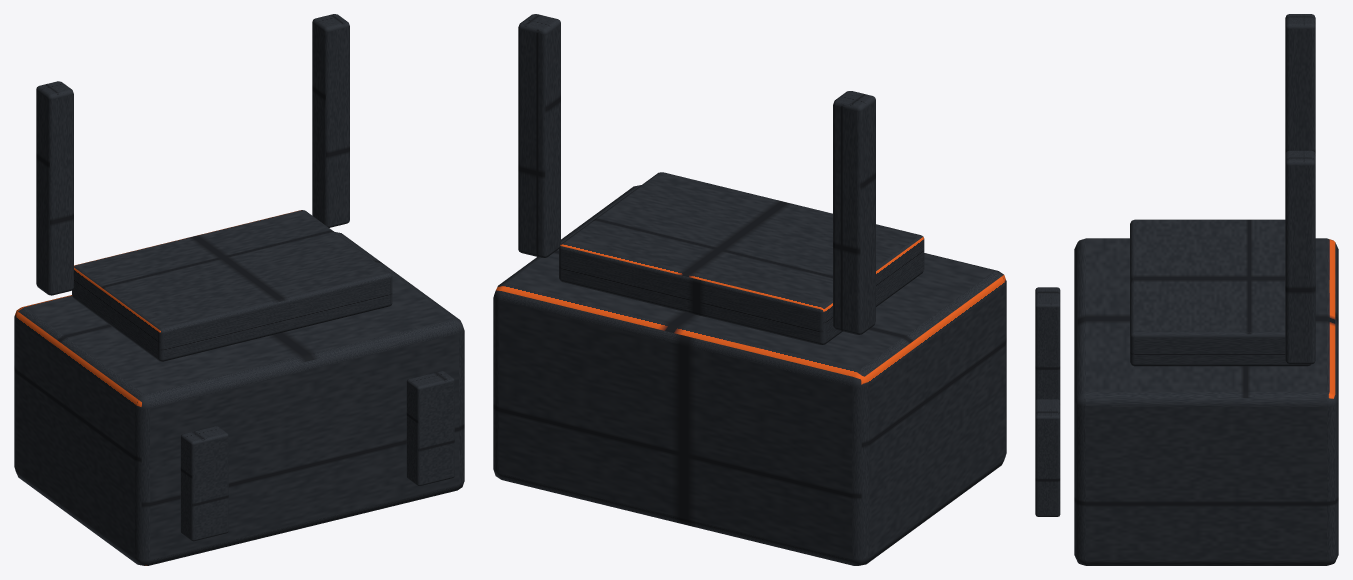
The model's file is Model_1_Rugged_Edge_Comms_Node.glb.
The picture shows the model from 3 angles, left to right: view 1: azimuth 30°, elevation 25°; view 2: azimuth 150°, elevation 25°; view 3: azimuth 270°, elevation 25°; orthographic projection. The views are drawn at different scales.
Visible parts, largest first — view 1: MYCALLA_Rugged_Edge_Comms_Node; view 2: MYCALLA_Rugged_Edge_Comms_Node; view 3: MYCALLA_Rugged_Edge_Comms_Node.
Part boxes in pixels (bbox=[...]): MYCALLA_Rugged_Edge_Comms_Node: bbox=[14, 14, 464, 565]; MYCALLA_Rugged_Edge_Comms_Node: bbox=[493, 14, 1006, 565]; MYCALLA_Rugged_Edge_Comms_Node: bbox=[1035, 14, 1338, 565].
Bounding box in the file's own units: 1.31 × 1.51 × 1.03.
Materials: 1 (1 with a texture image).
